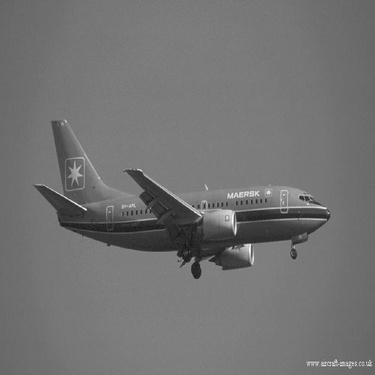airplane: (10, 107, 340, 285)
